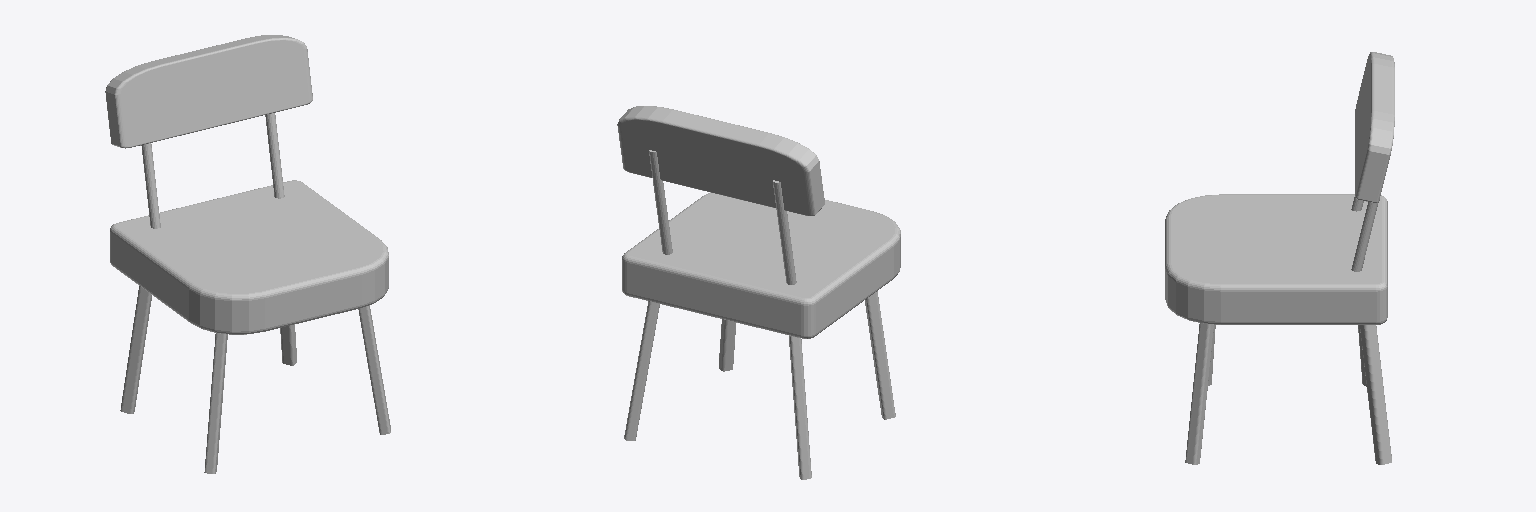
Rendered from Chair.obj.
3 renders of one model, left to right at view 1: azimuth 30°, elevation 25°; view 2: azimuth 150°, elevation 25°; view 3: azimuth 270°, elevation 25°, orthographic.
Parts seen in each view (by area): view 1: pCube1, pCube6, pCube4, pCube5, pCylinder1, pCylinder2; view 2: pCube1, pCube6, pCube5, pCube4, pCylinder1, pCylinder2; view 3: pCube1, pCube6, pCube5, pCube4, pCylinder2.
Boxes of the visible parts, box(x1,y1,x2,y2) form: pCube1: box(110, 180, 388, 334); pCube6: box(105, 35, 312, 148); pCube4: box(204, 305, 390, 473); pCube5: box(120, 286, 296, 413); pCylinder1: box(141, 143, 160, 228); pCylinder2: box(265, 113, 284, 198); pCube1: box(622, 192, 900, 338); pCube6: box(617, 106, 824, 215); pCube5: box(624, 301, 811, 479); pCube4: box(719, 291, 895, 419); pCylinder1: box(773, 180, 796, 284); pCylinder2: box(649, 150, 672, 254); pCube1: box(1165, 194, 1387, 324); pCube6: box(1355, 52, 1394, 203); pCube5: box(1358, 325, 1391, 464); pCube4: box(1185, 323, 1215, 464); pCylinder2: box(1351, 202, 1377, 271).
Size of the model in its own units: 2.16 by 3.62 by 2.23.